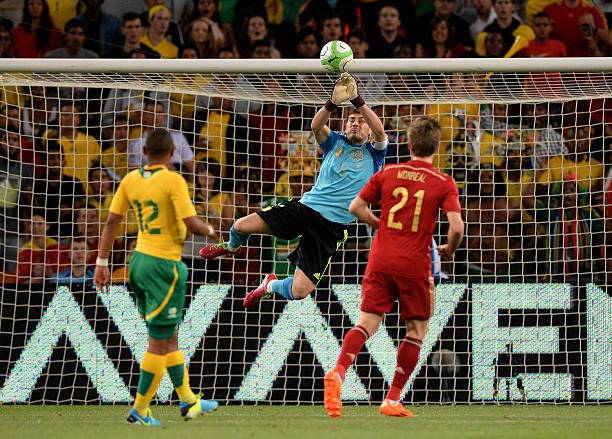Goalkeeper: (200, 73, 387, 307)
Player: (325, 117, 464, 417), (93, 128, 218, 426)
ball: (320, 41, 353, 73)
